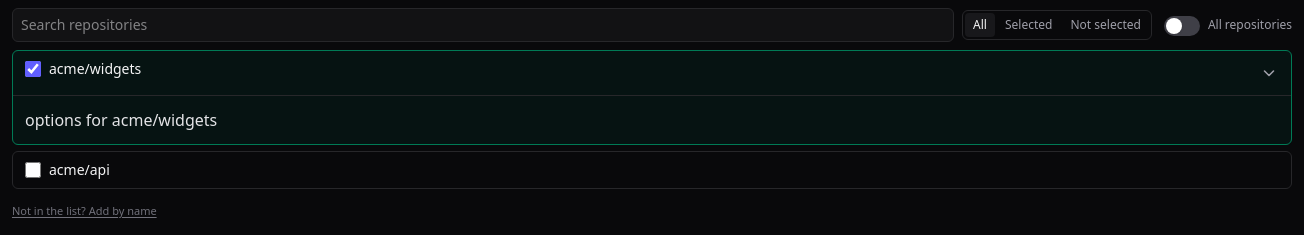
the repository picker › folds a picked row away behind its chevron and opens it again, leaving the tick alone
The image size is (1304, 235).
Expected: the checkbox labelled "acme/api" is shown, [25,162,41,178]
Expected: the text "options for acme/widgets" is shown, [25,109,217,131]
Click the button named "Collapse acme/widgets": (1269, 73) [1253,57,1285,89]
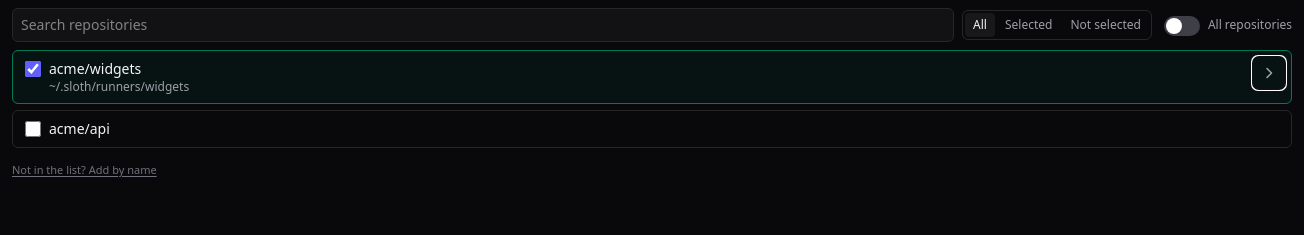
Expected: the checkbox labelled "acme/widgets" is checked, [25,61,41,77]
Expected: the text "options for acme/widgets" is gone
Expected: the text "~/.sloth/runners/widgets" is shown, [49,78,189,95]
Click the button named "Expand acme/widgets": (1269, 73) [1253,57,1285,89]
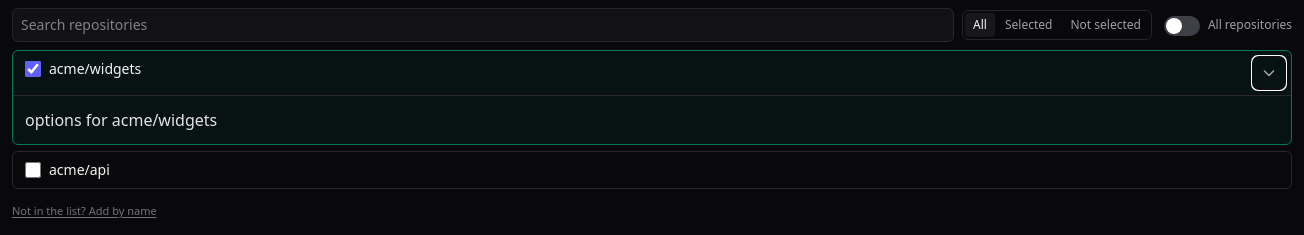
Expected: the text "options for acme/widgets" is shown, [25,109,217,131]
Expected: the text "~/.sloth/runners/widgets" is gone
